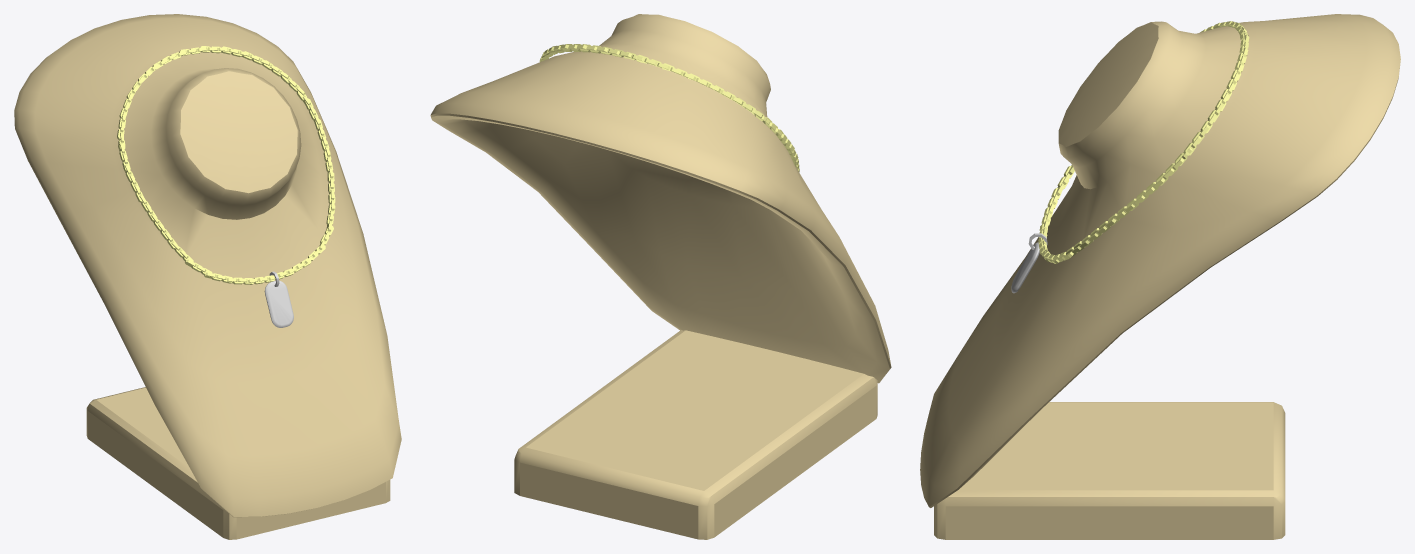
Rendered from Necklace_10.fbx.
The picture shows the model from 3 angles, left to right: view 1: azimuth 30°, elevation 25°; view 2: azimuth 150°, elevation 25°; view 3: azimuth 270°, elevation 25°; orthographic projection. The views are drawn at different scales.
Parts seen in each view (by area): view 1: SM_Stand_Necklace_14, SM_Necklace_9, SM_Cullon_6; view 2: SM_Stand_Necklace_14, SM_Necklace_9; view 3: SM_Stand_Necklace_14, SM_Necklace_9, SM_Cullon_6.
Part boxes in pixels (x1,y1,x2,y2): SM_Stand_Necklace_14: [14, 14, 401, 539]; SM_Necklace_9: [117, 46, 335, 284]; SM_Cullon_6: [264, 271, 293, 327]; SM_Stand_Necklace_14: [430, 14, 891, 539]; SM_Necklace_9: [539, 44, 799, 172]; SM_Stand_Necklace_14: [920, 14, 1400, 539]; SM_Necklace_9: [1038, 21, 1249, 263]; SM_Cullon_6: [1011, 233, 1047, 293].
Size of the model in its own units: 22.51 by 29.29 by 27.78.
